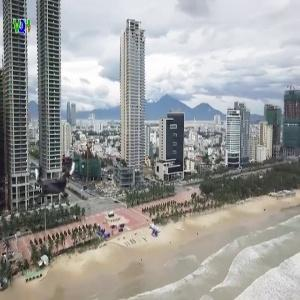drone: (29, 158, 83, 212)
